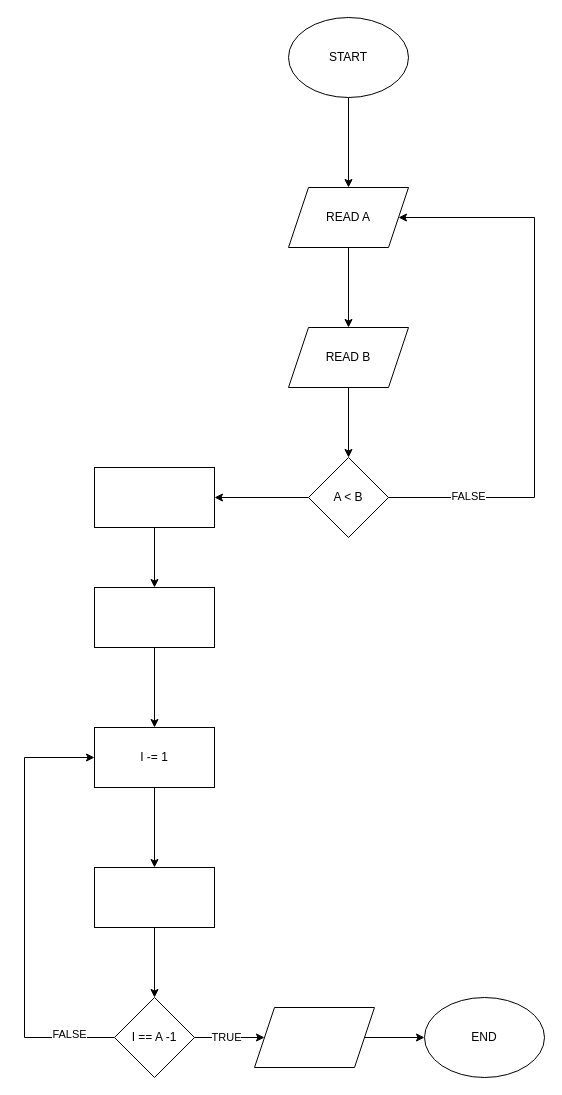
Image size: 562x1095. Some labels were removed from this diagram. Here are the shapes that lost their labels. From the top down, the box of each, then its label:
(94, 466, 214, 528): SOMMA = B
(94, 586, 214, 648): I = B
(94, 866, 214, 928): SOMMA += I
(254, 1006, 374, 1068): WRITE SOMMA
